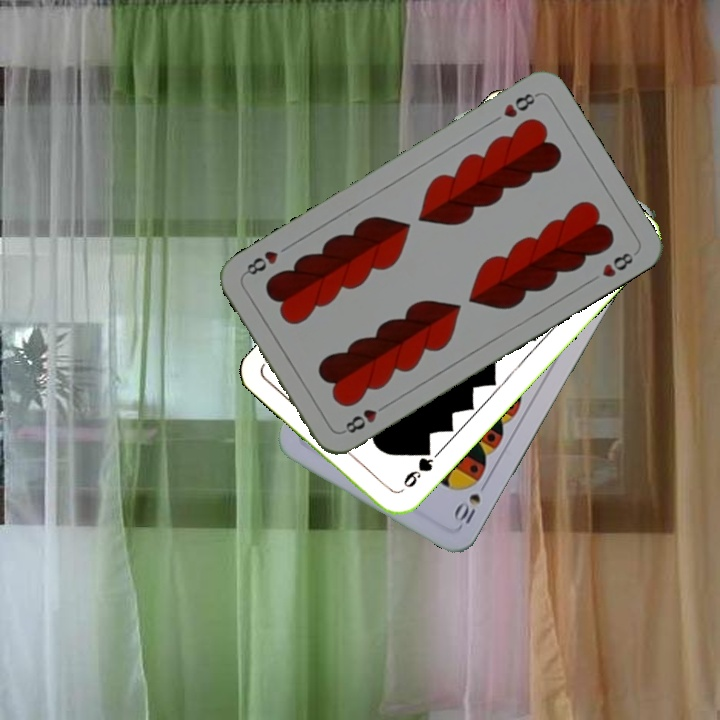G9: (399, 443, 436, 490)
H8: (338, 399, 391, 436), (499, 89, 541, 121)
S10: (450, 476, 491, 527)
